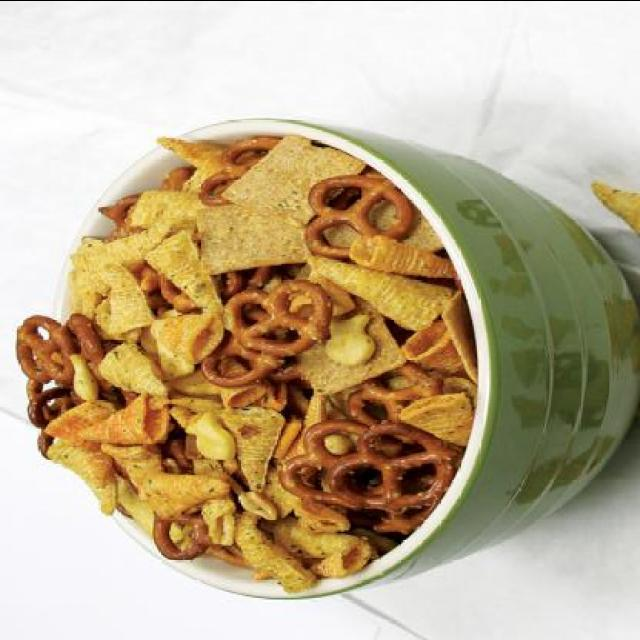Salatini packaged: (15, 122, 482, 586)
